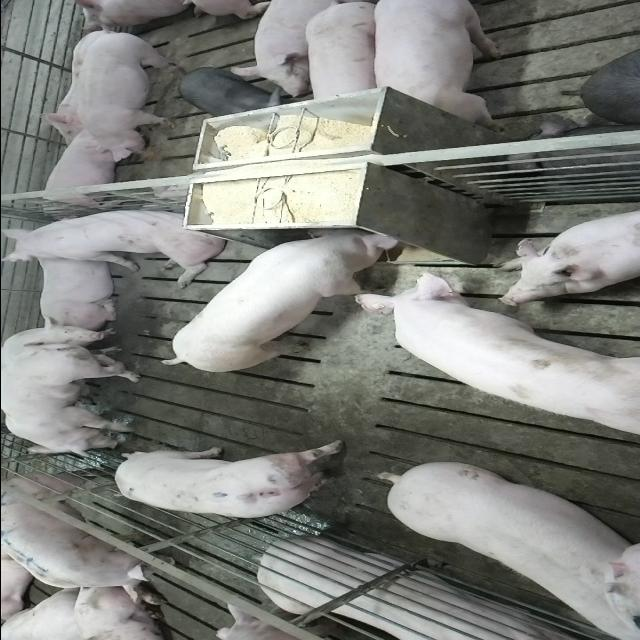Feeding: (160, 219, 406, 369)
Sitting: (4, 203, 228, 284), (1, 337, 146, 457)
Standing: (362, 266, 636, 443), (373, 456, 634, 634), (0, 476, 193, 608), (110, 441, 348, 521), (370, 2, 510, 126), (78, 28, 184, 158), (232, 4, 346, 101), (306, 3, 378, 107), (173, 65, 277, 116)
Sternal_lying: (250, 539, 588, 640), (495, 202, 640, 302), (36, 130, 133, 212), (35, 251, 121, 329)
